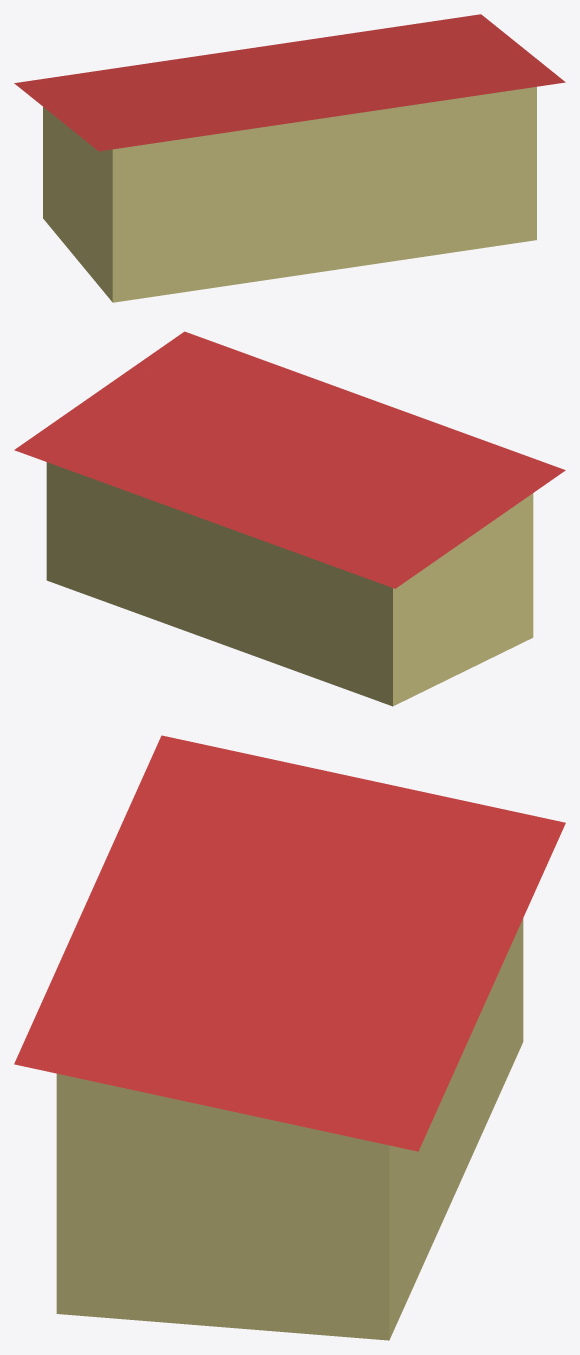
The picture shows the model from 3 angles, top to bottom: view 1: azimuth 30°, elevation 25°; view 2: azimuth 150°, elevation 25°; view 3: azimuth 270°, elevation 25°; orthographic projection. The views are drawn at different scales.
Size of the model in its own units: 23.4 by 15.11 by 7.91.
